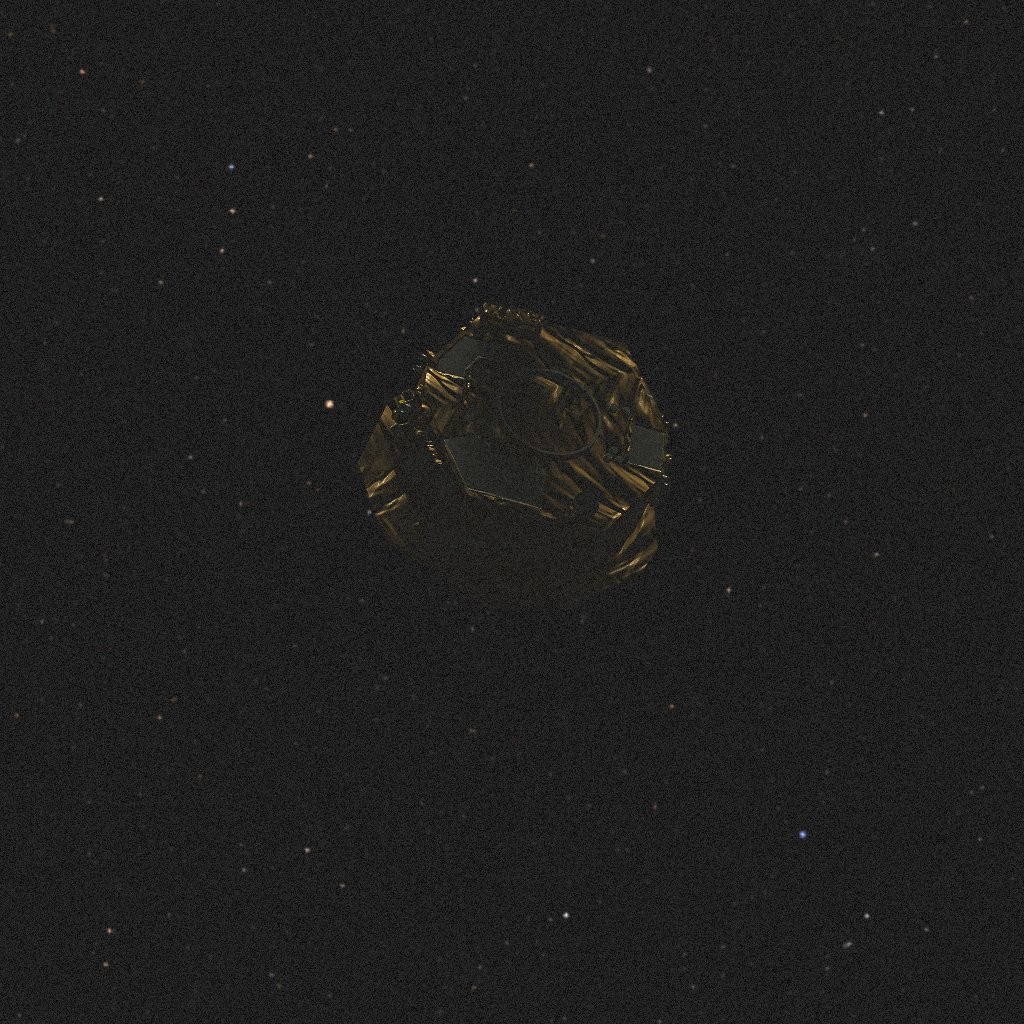lisa_pathfinder: (357, 295, 672, 610)
